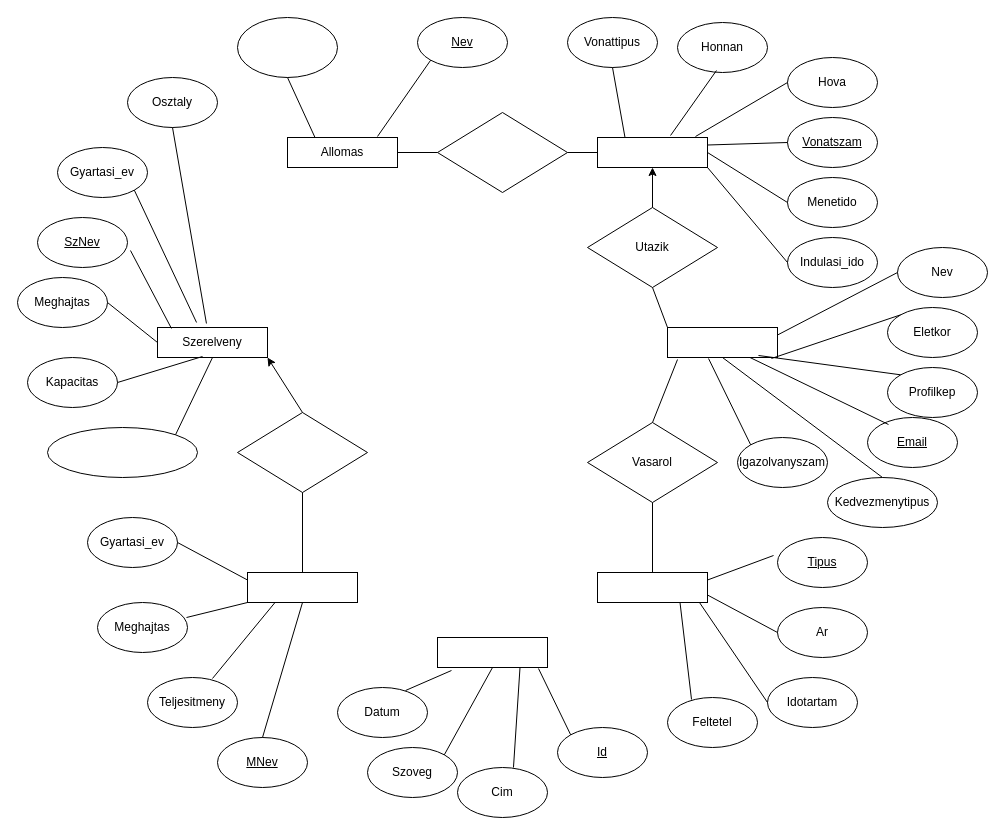
Some shapes in this 1005 by 835 pixel diagram are drawn without their labels. The centre of each missing label's shape, as x and y in pixels:
"Felhasznalo" goes at (x=722, y=342).
"Hir" goes at (x=492, y=652).
"Jarat" goes at (x=652, y=152).
"Jegy" goes at (x=652, y=587).
"Kerekparhelyek_szama" goes at (x=122, y=452).
"Kozlekedik" goes at (x=502, y=152).
"Mozdony" goes at (x=302, y=587).
"Varos" goes at (x=287, y=47).
"Vontat" goes at (x=302, y=452).
